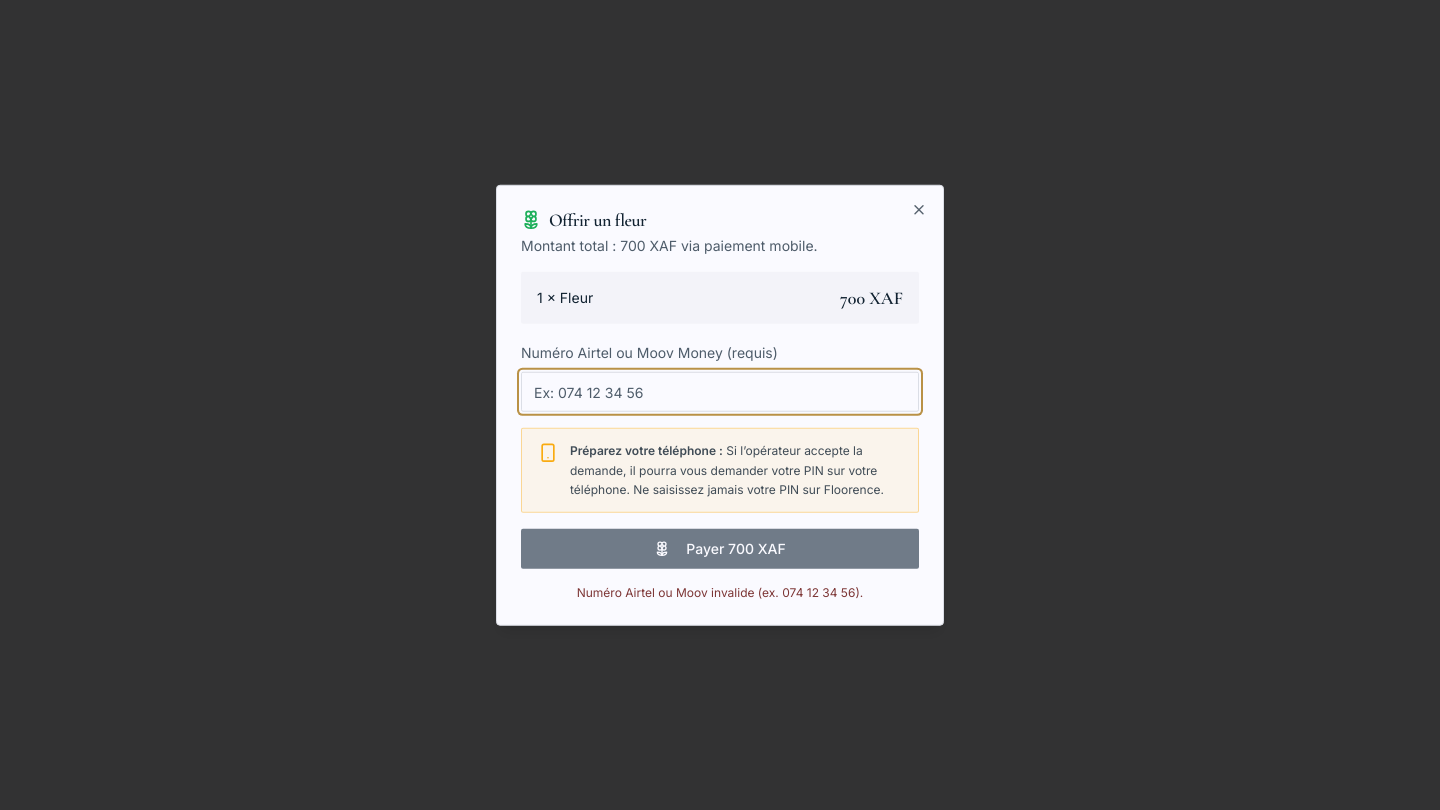
Test: a confirmed Moov failure remains terminal and reopening never sends another debit
Later steps or results of the test are not shown.
Type "+24165108829" into the field labelled "Numéro Airtel ou Moov Money (requis)" at (720, 392), box [521,372,919,412]
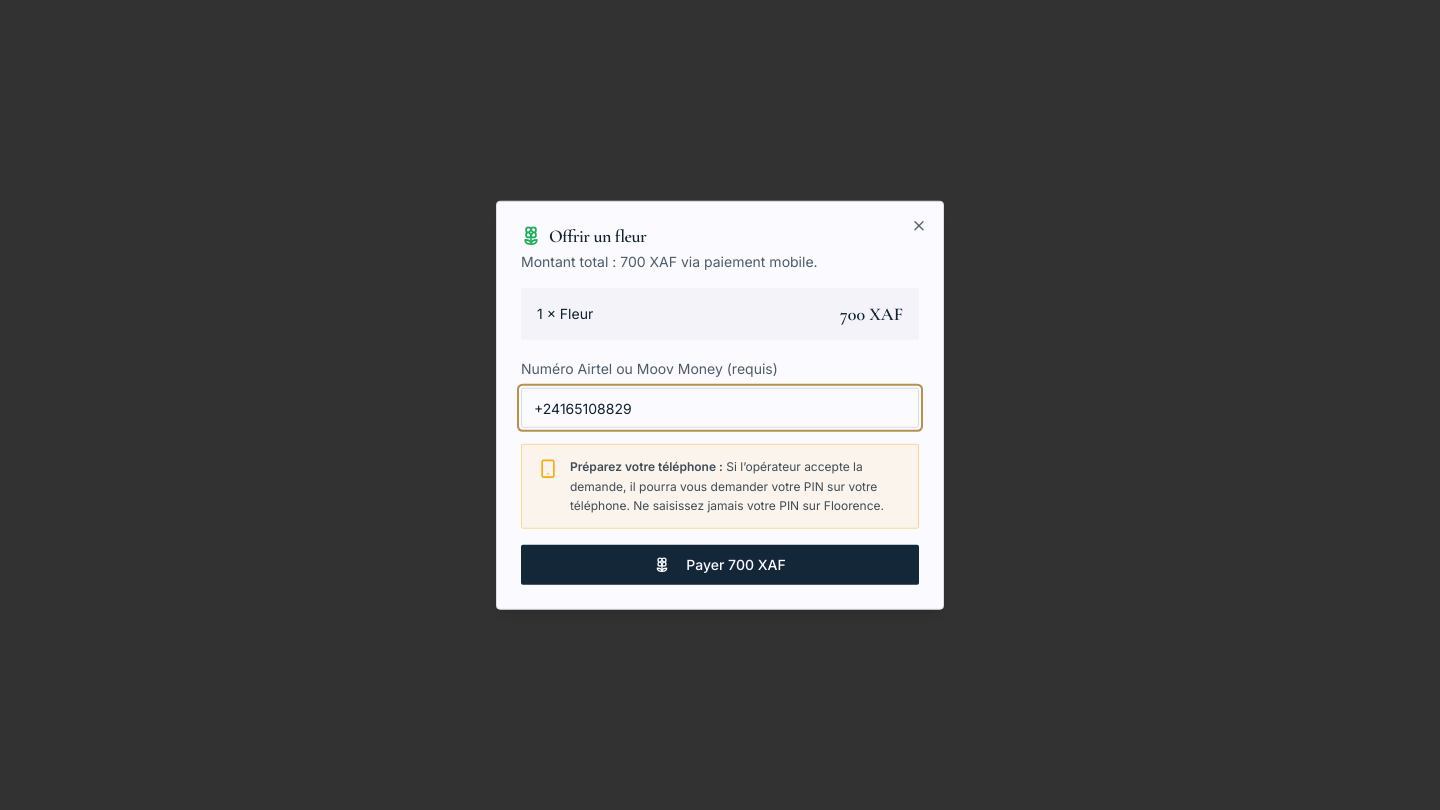
Click the button "Payer 700 XAF" at (720, 564), box [521,544,919,584]
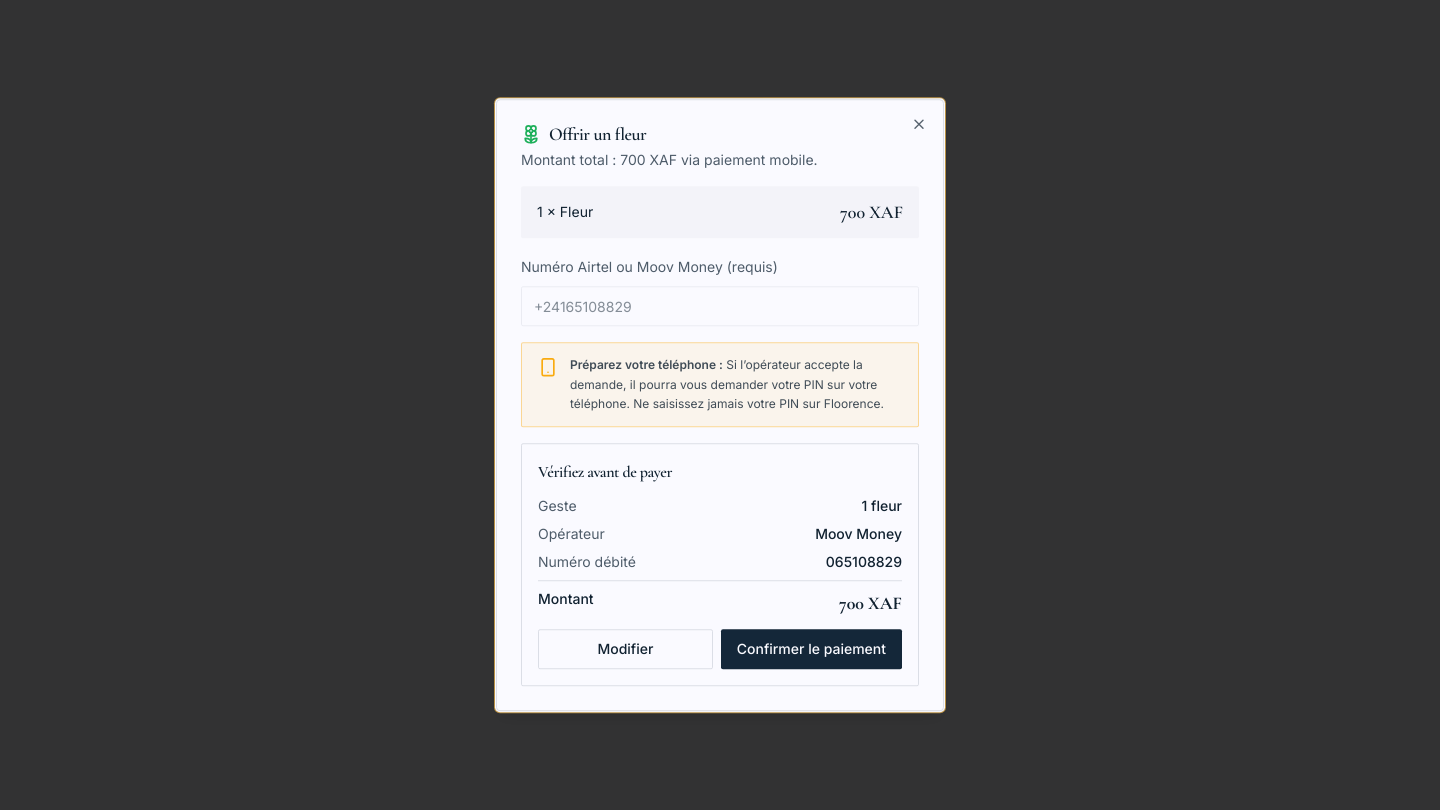
Click the button "Confirmer le paiement" at (811, 649), box [721,629,902,669]
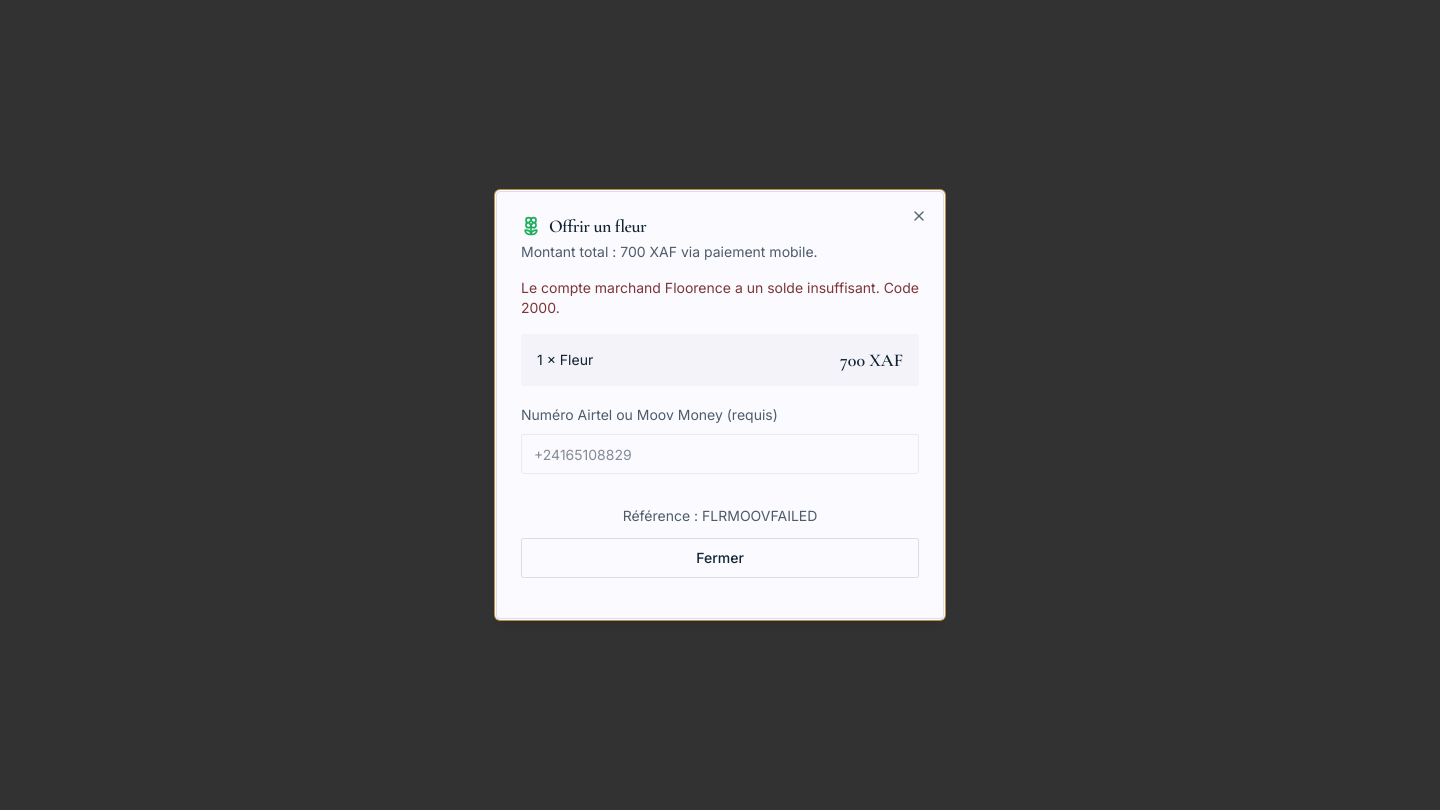
Result: the heading "payer" is gone
